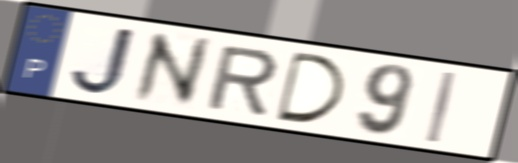9: (352, 62, 421, 138)
D: (274, 48, 349, 126)
I: (423, 69, 459, 146)
J: (67, 24, 140, 96)
N: (131, 29, 213, 108)
R: (203, 43, 281, 117)
